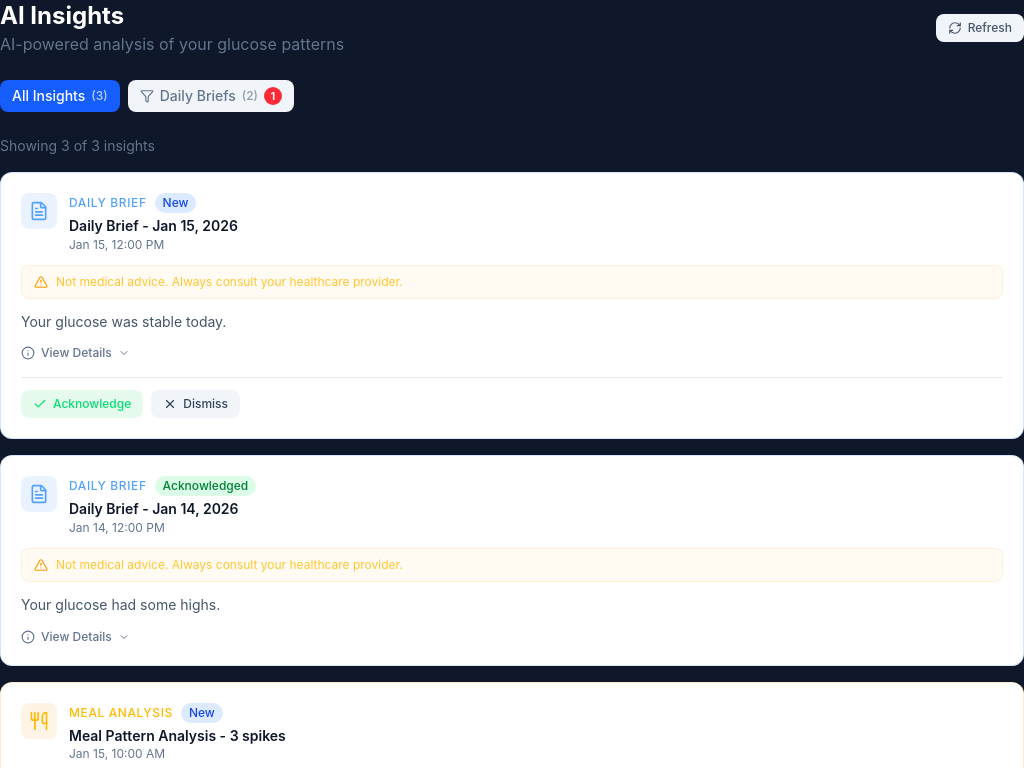
Test: Briefs page filter tabs › switches back to all insights when All tab is clicked
The image size is (1024, 768).
Note: Switch to daily briefs
Click the tab "Daily Briefs (2) 1". click: x=211, y=96
box: [128,80,294,112]
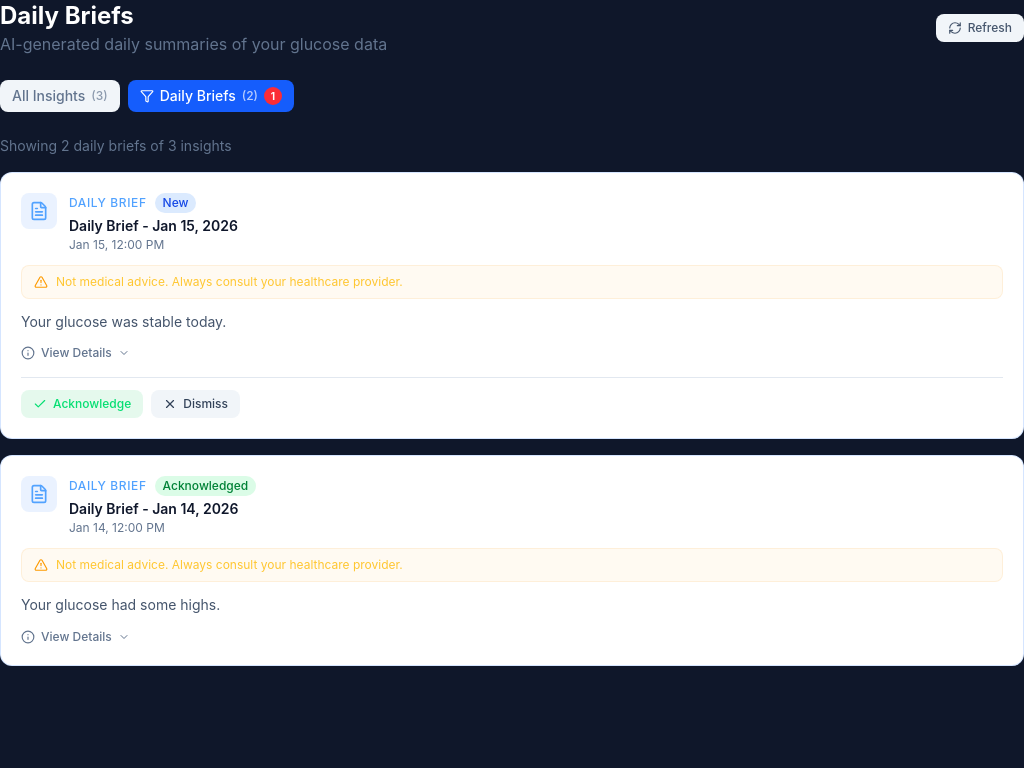
Note: Switch back to all
Click the tab "All Insights (3)". click: x=60, y=96
box: [0,80,120,112]
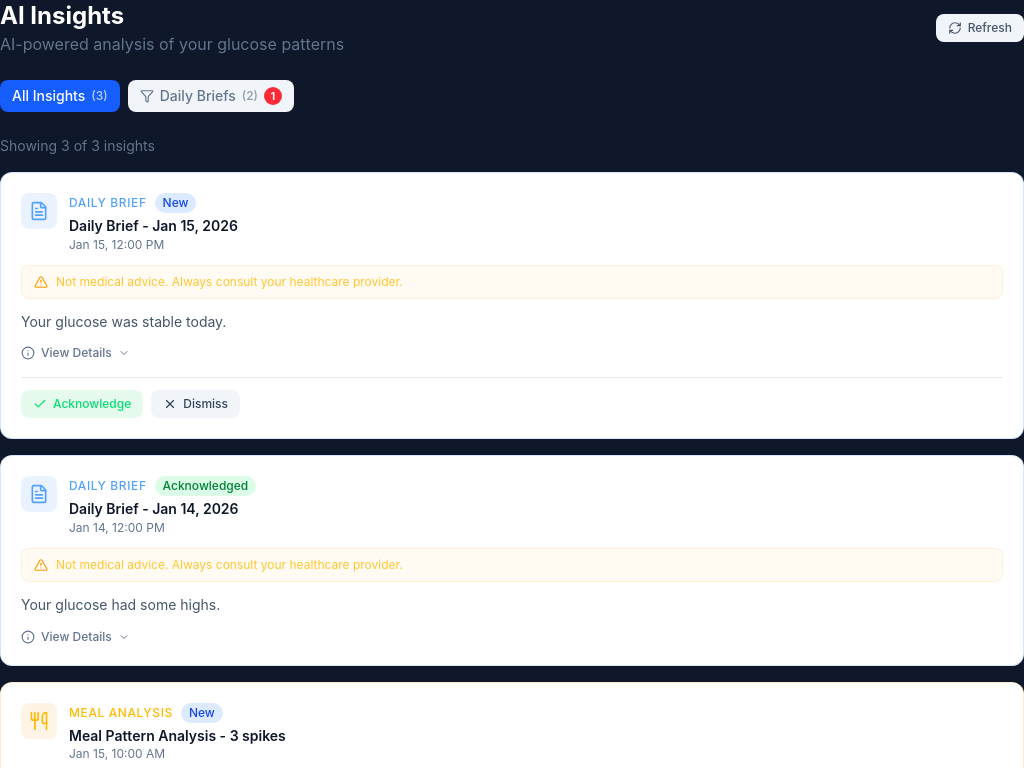
Expected: the heading "AI Insights" is shown, [0,1,124,30]
Expected: the heading "Meal Pattern Analysis - 3 spikes" is shown, [69,726,286,744]
